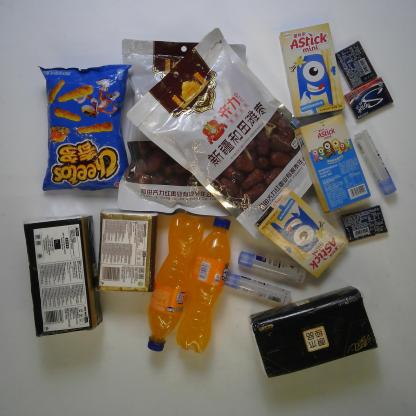Dessert: (254, 186, 350, 279), (293, 113, 372, 214), (278, 22, 346, 119)
Dried Food: (126, 26, 315, 242), (117, 38, 248, 217)
Drink: (146, 212, 207, 352), (176, 216, 231, 354)
Gum: (343, 76, 395, 122), (334, 40, 378, 92), (339, 204, 388, 244)
Puffed Food: (36, 64, 134, 192)
Stationery: (352, 129, 398, 196), (236, 251, 307, 285), (223, 272, 292, 306)
Tissue: (247, 285, 380, 380), (21, 210, 104, 338), (94, 207, 159, 294)
